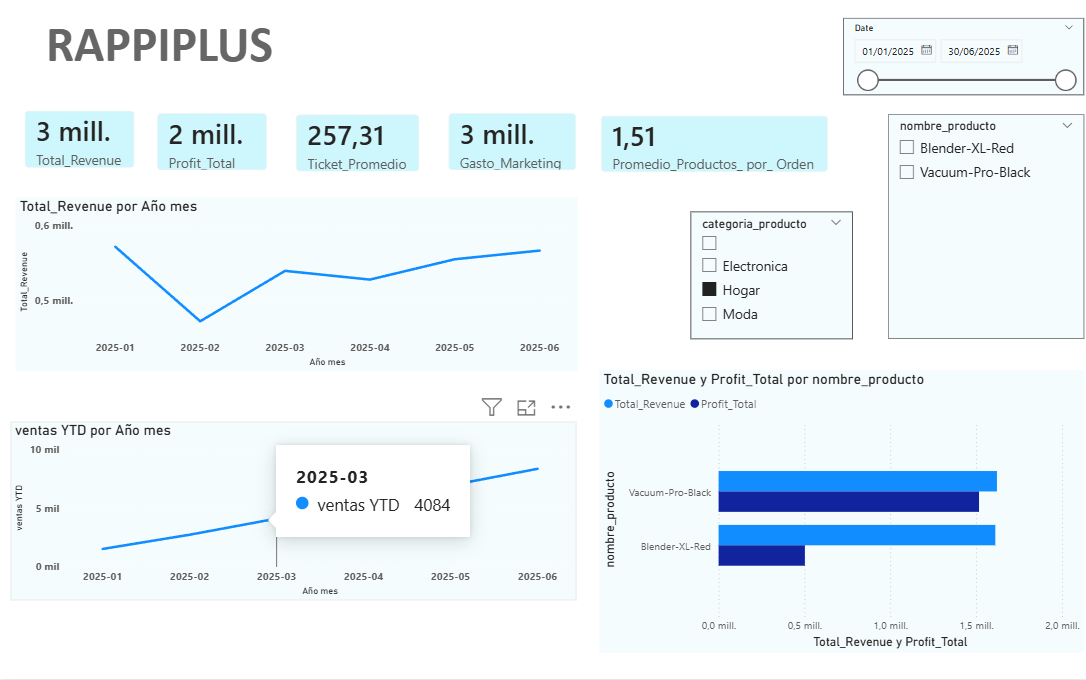

Layout of this report page (visuals, bound fields, positions):
{"tool":"powerbi","page":{"name":"Overview","canvas":[1288,800],"ordinal":0},"visuals":[{"type":"cardVisual","fields":{"Data":["orders_clean.Total_Revenue"]},"box":[14.7,114.8,163.4,101.6],"z":1000},{"type":"lineChart","title":"EVOLUCION DEL REVENUE EN EL TIEMPO","fields":{"Category":["Dim_fecha.Año mes"],"Y":["orders_clean.Total_Revenue"]},"box":[23.6,250.3,662.6,250.3],"z":7000},{"type":"lineChart","title":"EVOLUCION ACUMULADA DE VENTAS  (YDT)","fields":{"Category":["Dim_fecha.Año mes"],"Y":["orders_clean.ventas YTD"]},"box":[19.1,515.3,667,254.7],"z":8000},{"type":"clusteredBarChart","title":"DESEMPEÑO FINANCIERO POR PRODUCTO","fields":{"Y":["orders_clean.Total_Revenue","orders_clean.Profit_Total"],"Category":["orders_clean.nombre_producto"]},"box":[708.2,437.3,571.3,332.7],"z":9000},{"type":"slicer","fields":{"Values":["Dim_fecha.Date"]},"box":[995.3,22.1,284.2,91.3],"z":11000},{"type":"slicer","fields":{"Values":["orders_clean.categoria_producto"]},"box":[815.7,250.3,191.4,150.2],"z":12000},{"type":"slicer","fields":{"Values":["orders_clean.nombre_producto"]},"box":[1048.3,135.5,231.2,265],"z":13000},{"type":"textbox","box":[51.5,11.8,315.1,92.8],"z":14001},{"type":"cardVisual","fields":{"Data":["orders_clean.Profit_Total"]},"box":[170.8,117.8,163.4,101.6],"z":14002},{"type":"cardVisual","fields":{"Data":["marketing_clean.Gasto_Marketing"]},"box":[513.8,117.8,184,101.6],"z":14004},{"type":"cardVisual","fields":{"Data":["orders_clean.Ticket_Promedio"]},"box":[334.2,119.3,179.6,101.6],"z":14005},{"type":"cardVisual","fields":{"Data":["orders_clean.Promedio_Productos_ por_ Orden"]},"box":[693.5,120.7,301.8,100.1],"z":14006}]}

Visuals, with their boxes in screenshot pixels (x1, y1, x2, y2), scaled from the page's 1288x800 canvas onto the 1086x680 screenshot:
cardVisual - orders_clean.Total_Revenue: (x1=12, y1=98, x2=150, y2=184)
"EVOLUCION DEL REVENUE EN EL TIEMPO" lineChart: (x1=20, y1=213, x2=579, y2=426)
"EVOLUCION ACUMULADA DE VENTAS  (YDT)" lineChart: (x1=16, y1=438, x2=578, y2=654)
"DESEMPEÑO FINANCIERO POR PRODUCTO" clusteredBarChart: (x1=597, y1=372, x2=1079, y2=654)
slicer - Dim_fecha.Date: (x1=839, y1=19, x2=1079, y2=96)
slicer - orders_clean.categoria_producto: (x1=688, y1=213, x2=849, y2=340)
slicer - orders_clean.nombre_producto: (x1=884, y1=115, x2=1079, y2=340)
textbox: (x1=43, y1=10, x2=309, y2=89)
cardVisual - orders_clean.Profit_Total: (x1=144, y1=100, x2=282, y2=186)
cardVisual - marketing_clean.Gasto_Marketing: (x1=433, y1=100, x2=588, y2=186)
cardVisual - orders_clean.Ticket_Promedio: (x1=282, y1=101, x2=433, y2=188)
cardVisual - orders_clean.Promedio_Productos_ por_ Orden: (x1=585, y1=103, x2=839, y2=188)
